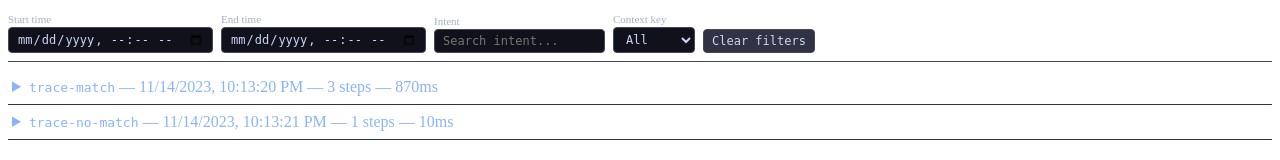
Test: TraceTab › filter by intent › filters by intent substring with real-time filtering
Step 1. Type "dashboard" into the field named "Filter by intent" → [520, 41], box [434,29,605,53]
Wait 250 ms
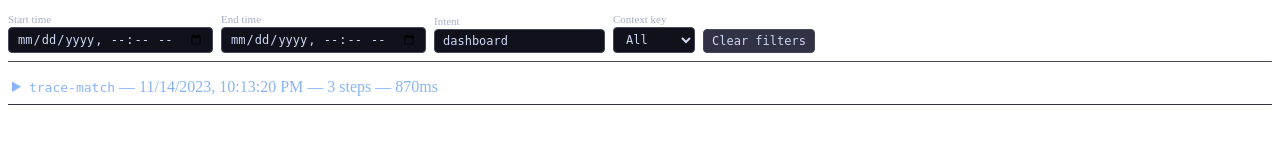
Check: the text "trace-match" is shown, box [29,80,115,95]
Check: the heading "trace-no-match" is gone
